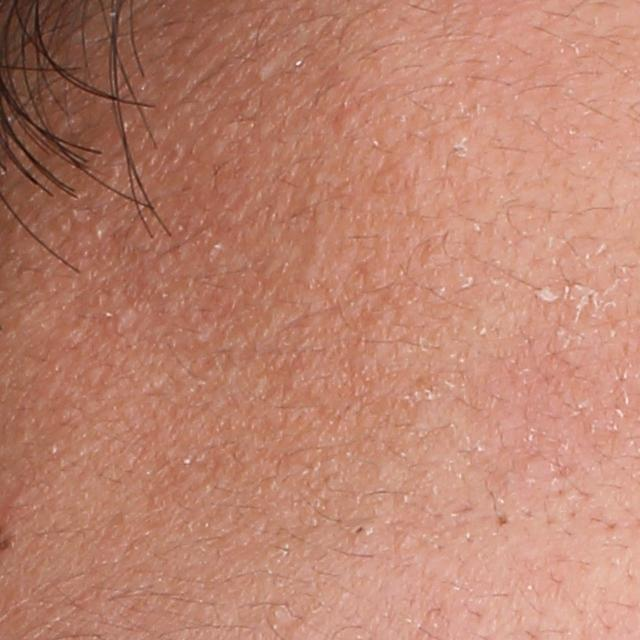comedo: (333, 101, 360, 133), (347, 522, 370, 541)
